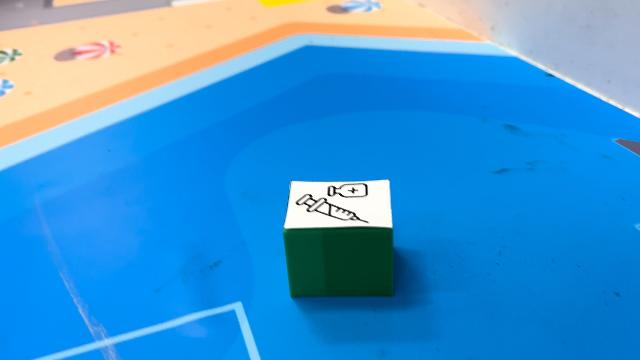syringe: (282, 180, 398, 298)
